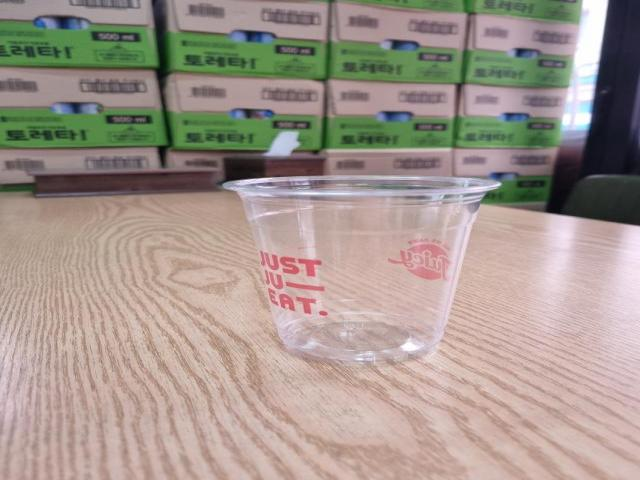cup: (214, 172, 511, 372)
